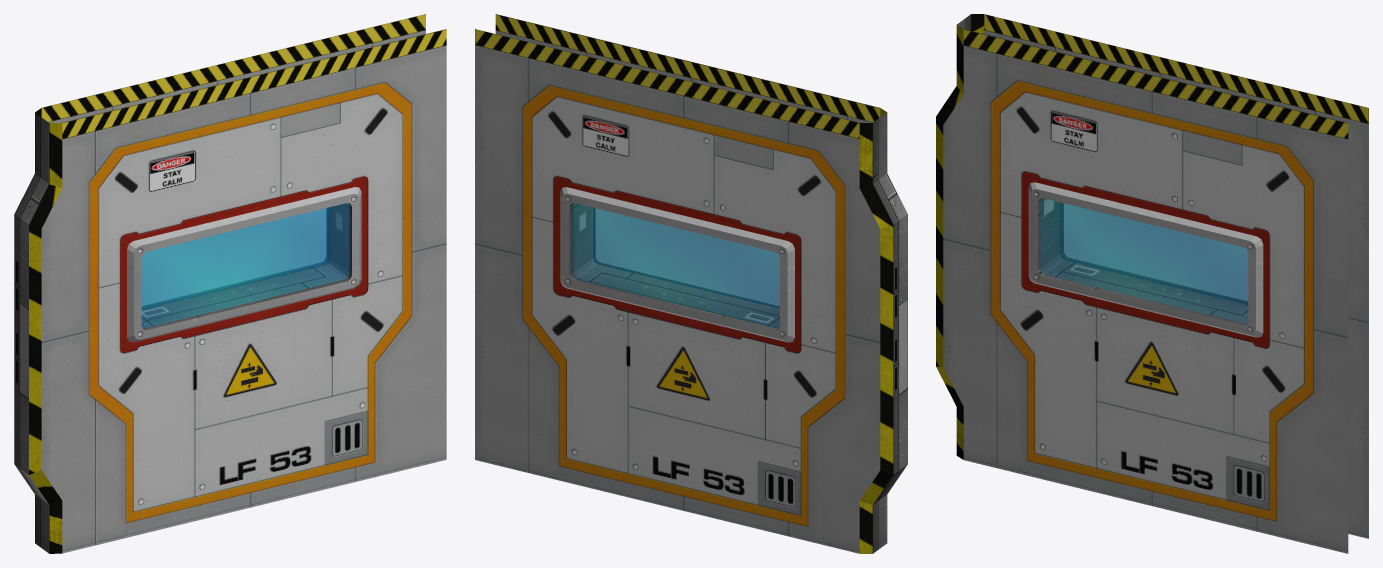
Rendered from DoorMovable_Short_01.FBX.
3 views of the same model, side by side, from view 1: azimuth 30°, elevation 25°; view 2: azimuth 150°, elevation 25°; view 3: azimuth 330°, elevation 25° (orthographic).
Parts seen in each view (by area): view 1: DoorMovable_Short_01; view 2: DoorMovable_Short_01; view 3: DoorMovable_Short_01.
Boxes of the visible parts, left/top/right/bottom form: DoorMovable_Short_01: left=14, top=14, right=446, bottom=553; DoorMovable_Short_01: left=475, top=14, right=907, bottom=553; DoorMovable_Short_01: left=936, top=14, right=1368, bottom=553.
Bounding box in the file's own units: 122 × 121 × 13.14.
